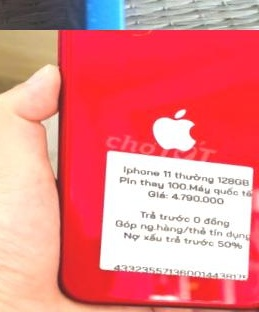scratch: (127, 266, 241, 312), (19, 0, 172, 30)
